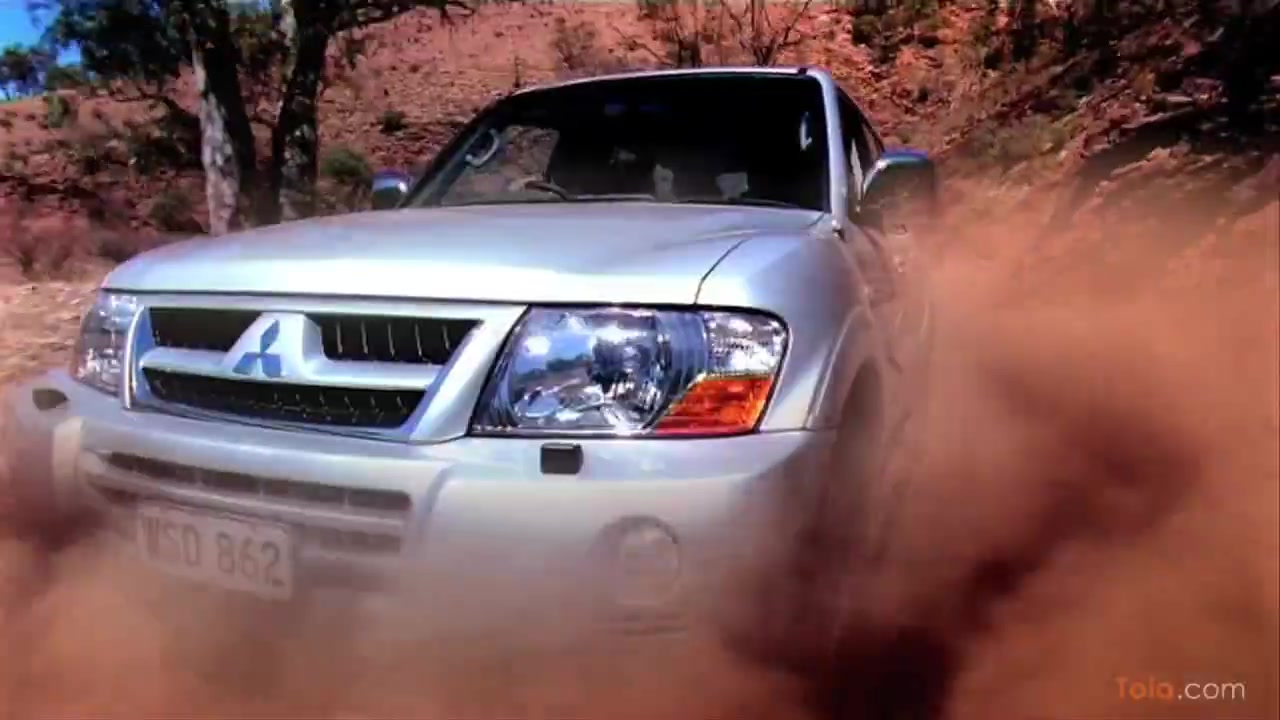car: (10, 66, 946, 688)
